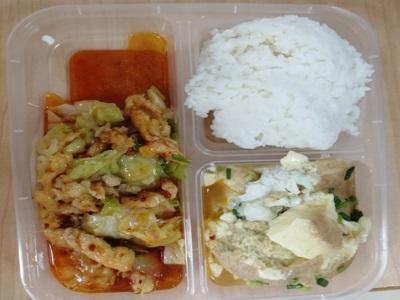jdg: (205, 167, 350, 282)
rice: (211, 30, 353, 146)
